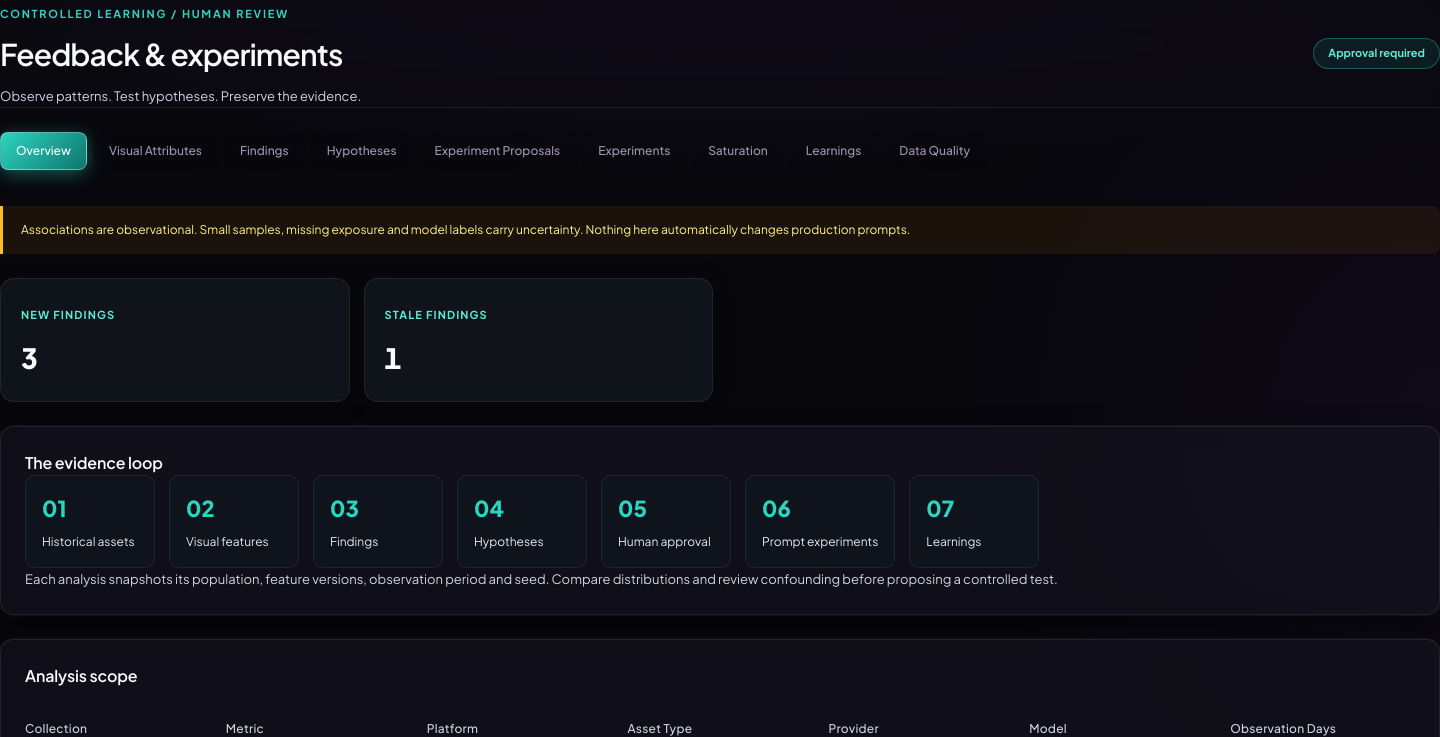
Test: preserves contradictory learning history and traceability
Click the button "Learnings": (834, 151) [790,132,877,170]
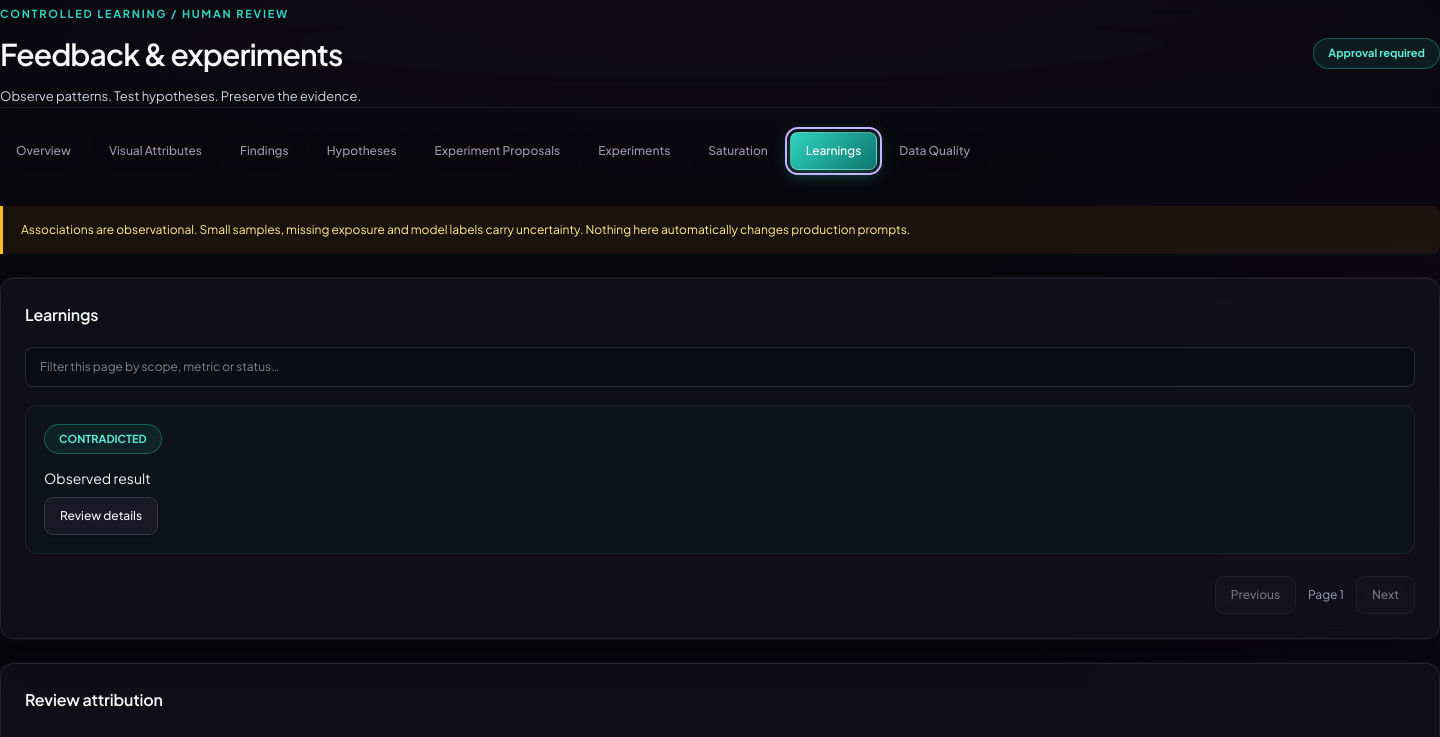
Click the button "Review details": (101, 516) [44,497,158,535]
(page scrolled)
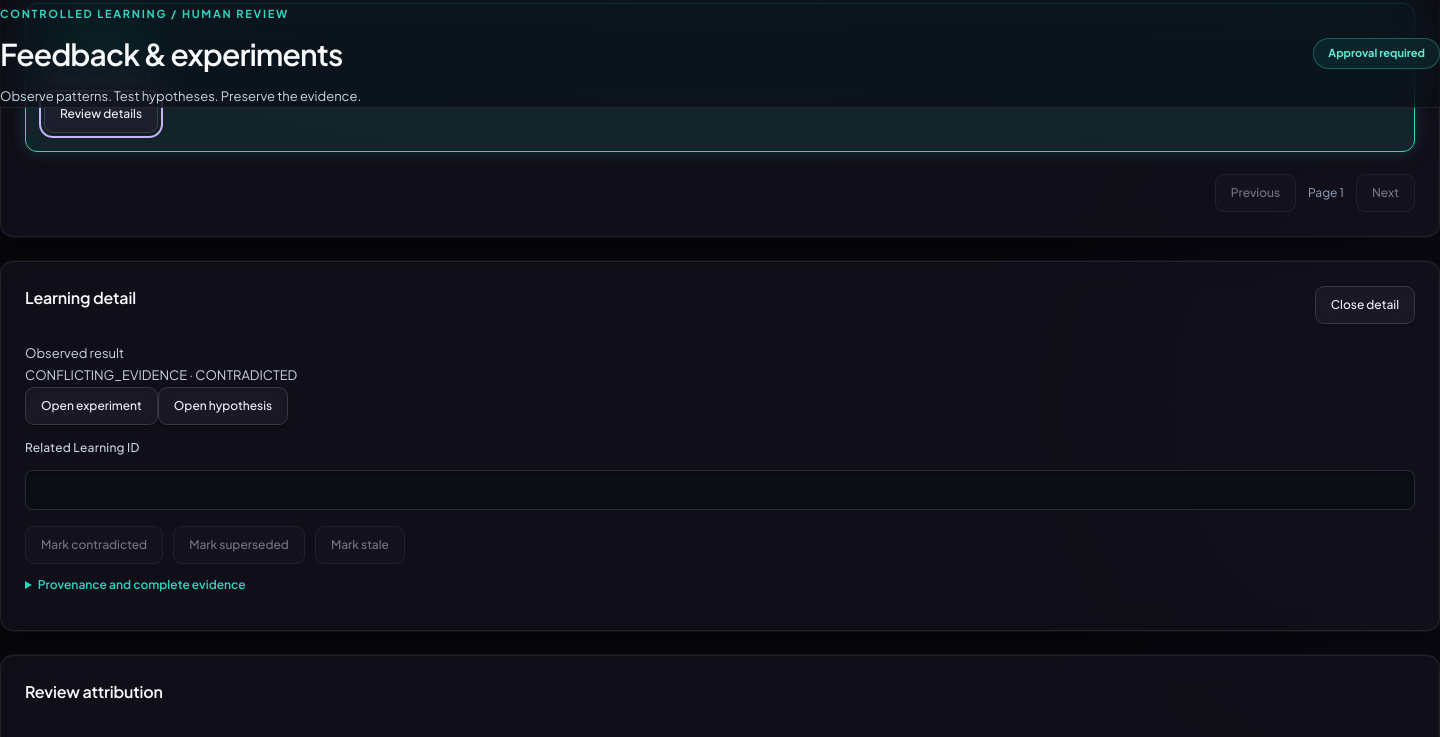
Expected: the text "CONFLICTING_EVIDENCE · CONTRADICTED" is shown, [25,368,297,384]
Expected: the button "Open experiment" is shown, [25,387,158,425]
